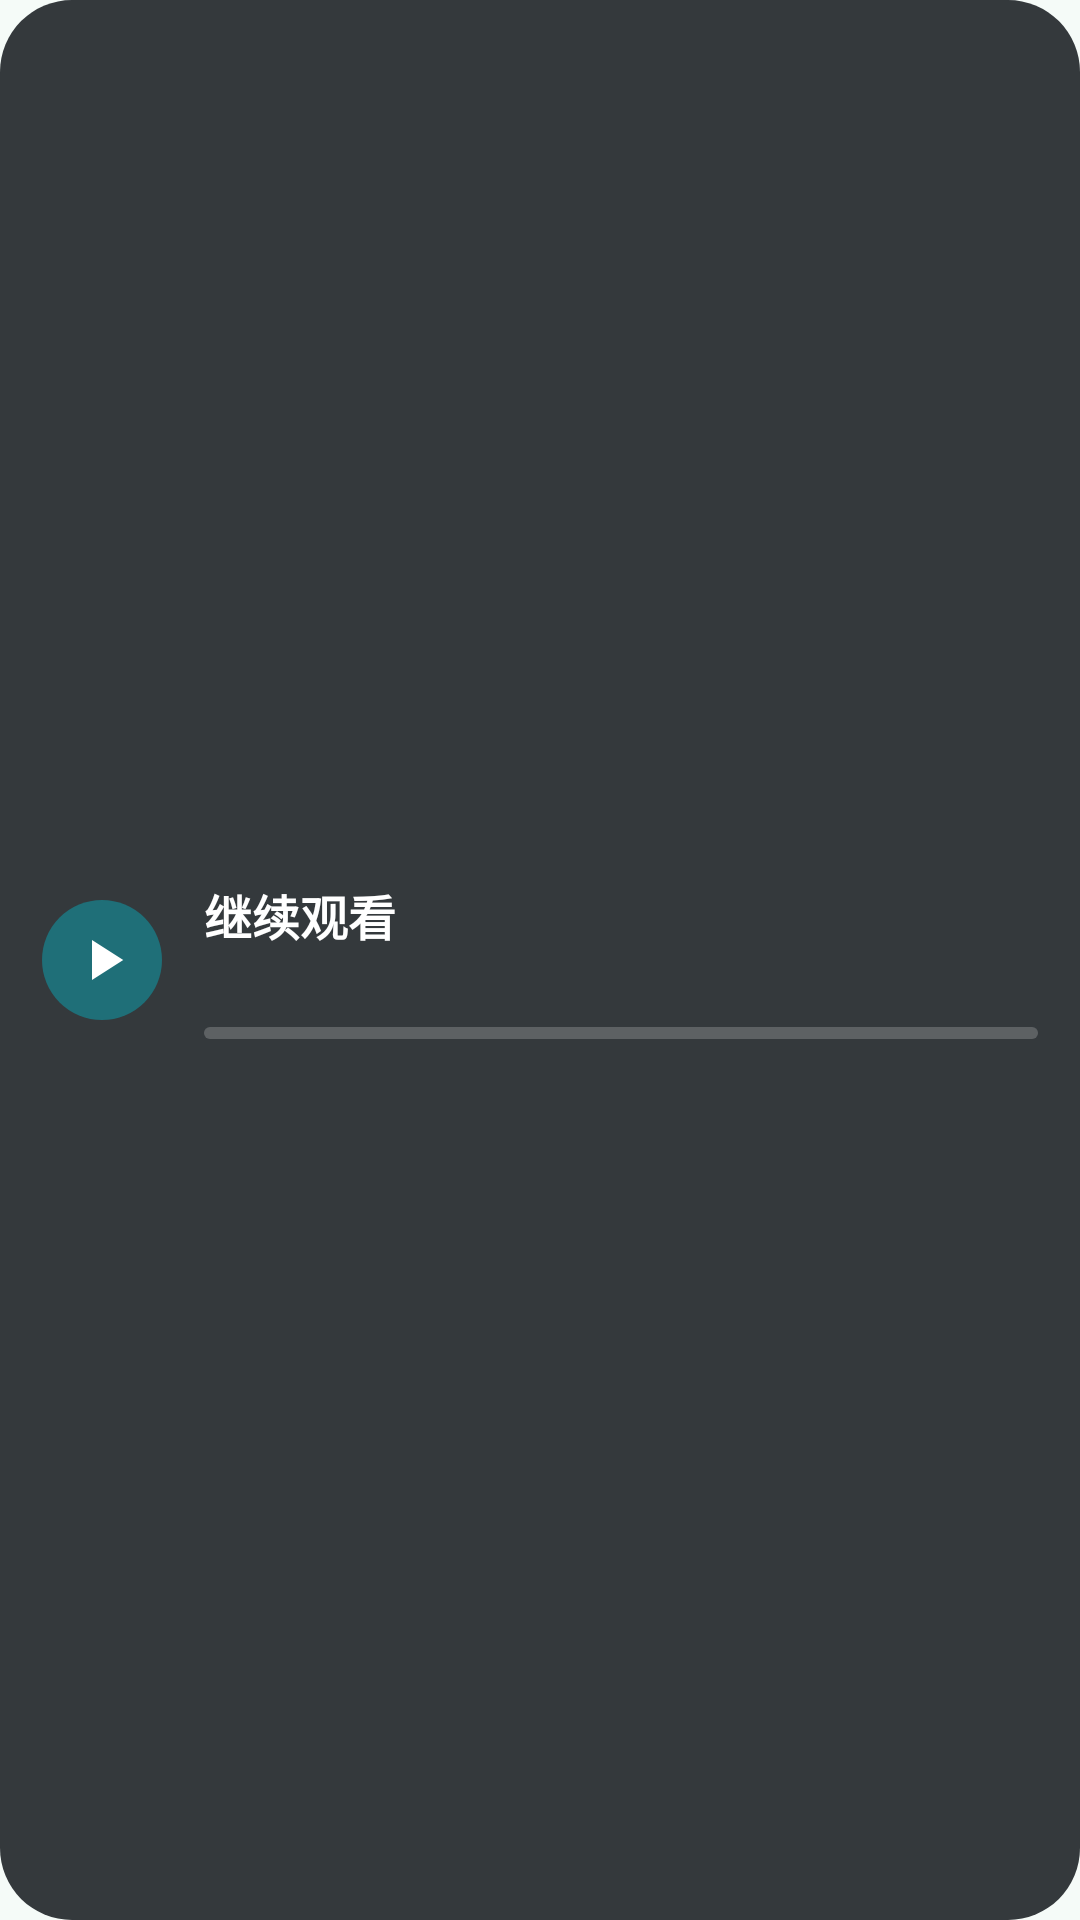

Icons on this 1080 × 1920 Android screen, each with the point to tap as (x=x, y=y):
shortcut play: (x=102, y=960)
